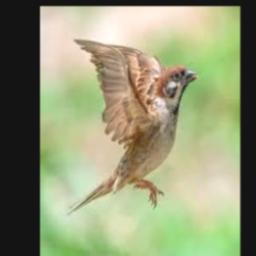Sparrow: (66, 39, 200, 214)
